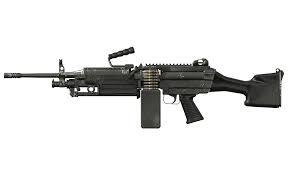gun: (1, 46, 282, 132)
